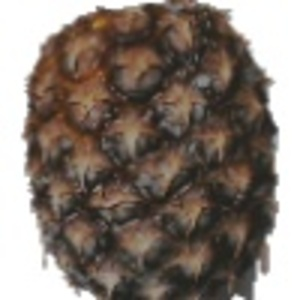abacaxi: (22, 4, 281, 296)
